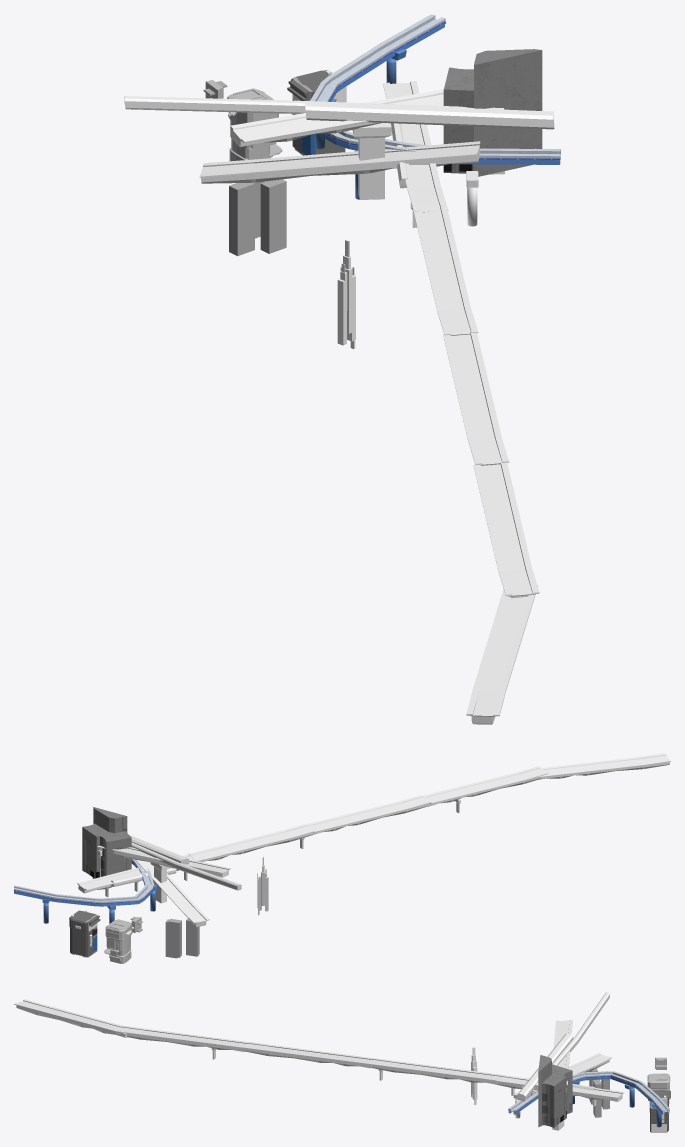
The model's file is BridgeALL.fbx.
3 renders of one model, top to bottom at view 1: azimuth 30°, elevation 25°; view 2: azimuth 150°, elevation 25°; view 3: azimuth 270°, elevation 25°, orthographic. The views are drawn at different scales.
Parts seen in each view (by area): view 1: building, Cube_006__3_, 立方體_001, Cube_006__3__001__1___2_, Cube_006__3__001__1___1_, Cube_005, Cube_006__3__001__1_, Cube_006__3__001__1___3_, Cube_006__3__001__1__1, Cube_004__1_, Cube_006__3__001, Cube__1_ (+4 smaller); view 2: building, Cube_006__3__001__1___3_, Cube_006__3__001__1___1_, Cube_006__3__001__1___2_, Cube_006__3__001__1_, 立方體_001, platform, Cube_006__3_, Cube_3453, Cube_006__3__001__1__1, Cube_004__1_, Cube_006__3__001 (+4 smaller); view 3: building, Cube_006__3__001__1_, Cube_006__3__001__1___1_, Cube_006__3__001__1___2_, Cube_006__3__001__1___3_, 立方體_001, Cube_006__3__001, Cube_004__1_, Cube_005, Cube_006__3_, Cube_006__3__001__1__1, platform (+2 smaller).
Boxes of the visible parts, <box> form: building: <box>443,49,542,176</box>; Cube_006__3_: <box>199,141,480,183</box>; 立方體_001: <box>310,14,560,164</box>; Cube_006__3__001__1___2_: <box>473,462,539,598</box>; Cube_006__3__001__1___1_: <box>443,331,509,465</box>; Cube_005: <box>305,102,554,129</box>; Cube_006__3__001__1_: <box>412,201,478,335</box>; Cube_006__3__001__1___3_: <box>466,585,537,724</box>; Cube_006__3__001__1__1: <box>230,89,443,147</box>; Cube_004__1_: <box>124,96,504,113</box>; Cube_006__3__001: <box>383,81,448,212</box>; Cube__1_: <box>260,179,286,253</box>; building: <box>82,807,131,878</box>; Cube_006__3__001__1___3_: <box>535,753,670,779</box>; Cube_006__3__001__1___1_: <box>306,795,431,834</box>; Cube_006__3__001__1___2_: <box>423,766,548,806</box>; Cube_006__3__001__1_: <box>188,824,315,861</box>; 立方體_001: <box>14,859,154,906</box>; platform: <box>69,910,100,956</box>; Cube_006__3_: <box>135,859,209,926</box>; Cube_3453: <box>104,919,132,963</box>; Cube_006__3__001__1__1: <box>97,845,231,877</box>; Cube_004__1_: <box>131,842,241,890</box>; Cube_006__3__001: <box>77,854,204,893</box>; building: <box>538,1055,572,1127</box>; Cube_006__3__001__1_: <box>368,1058,502,1084</box>; Cube_006__3__001__1___1_: <box>242,1042,374,1068</box>; Cube_006__3__001__1___2_: <box>114,1025,248,1051</box>; Cube_006__3__001__1___3_: <box>14,999,127,1037</box>; 立方體_001: <box>508,1071,669,1114</box>; Cube_006__3__001: <box>489,1074,624,1101</box>; Cube_004__1_: <box>534,992,609,1090</box>; Cube_005: <box>517,1033,573,1101</box>; Cube_006__3_: <box>522,1053,611,1095</box>; Cube_006__3__001__1__1: <box>553,1019,572,1085</box>; platform: <box>650,1088,670,1132</box>.
Bounding box in the file's own units: 57354 × 16937 × 105772.
